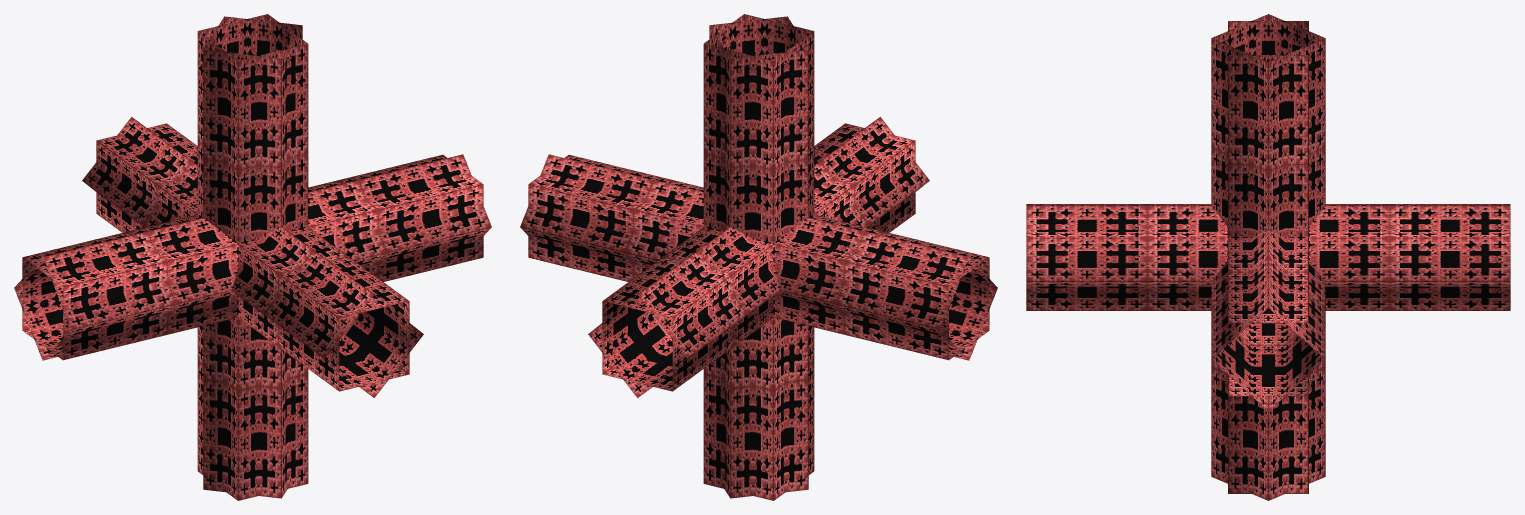
Rendered from StarTetrahemihexacron6.gltf.
3 renders of one model, left to right at view 1: azimuth 30°, elevation 25°; view 2: azimuth 150°, elevation 25°; view 3: azimuth 270°, elevation 25°, orthographic.
Parts seen in each view (by area): view 1: StarTetrahemihexacron; view 2: StarTetrahemihexacron; view 3: StarTetrahemihexacron.
Part boxes in pixels (box(x1,y1,x2,y2)): StarTetrahemihexacron: box(14, 14, 491, 500); StarTetrahemihexacron: box(520, 14, 997, 500); StarTetrahemihexacron: box(1026, 14, 1510, 500).
Size of the model in its own units: 6 by 6 by 6.
Materials: 1 (1 with a texture image).
